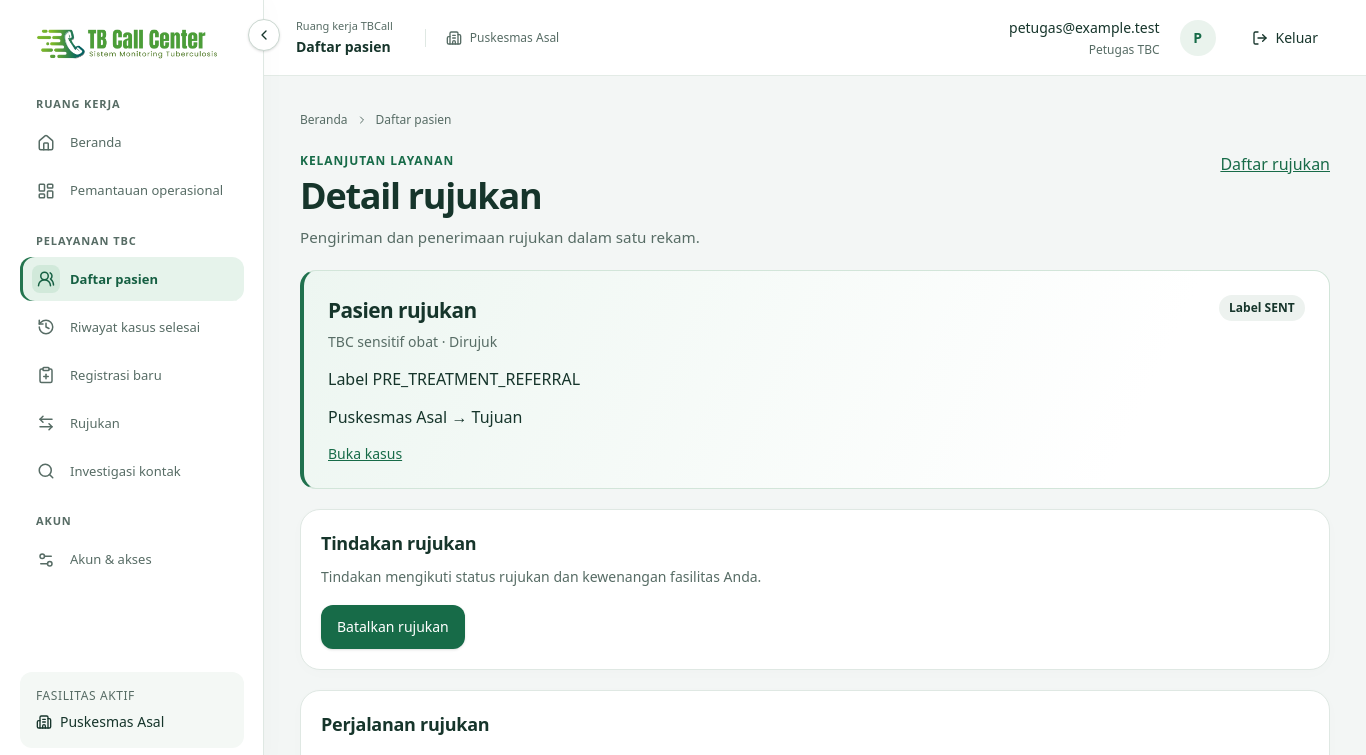
Test: referral cancel submits actual GET ETag and only transition fields
Click the button "Batalkan rujukan": (393, 628) [321, 606, 465, 650]
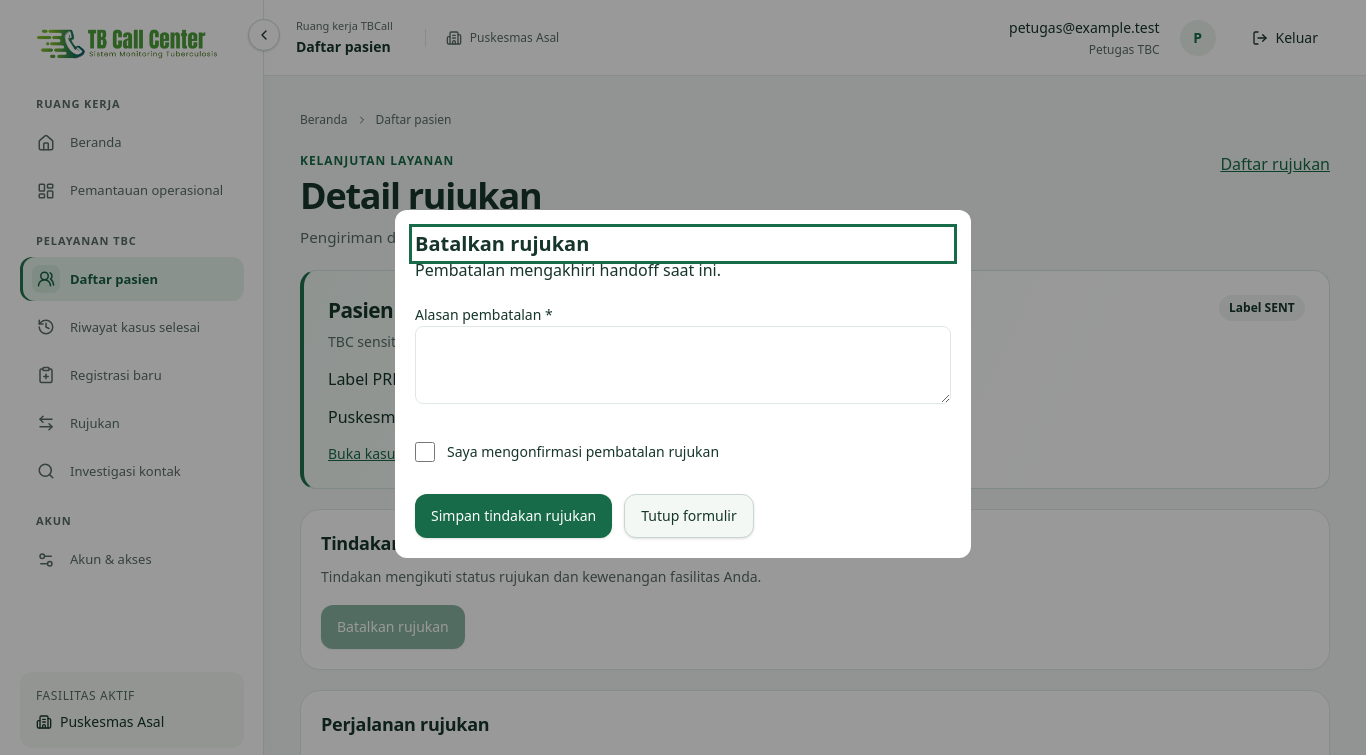
In the text box labelled "Alasan pembatalan *": (683, 365) [415, 326, 951, 404], type "Reason"
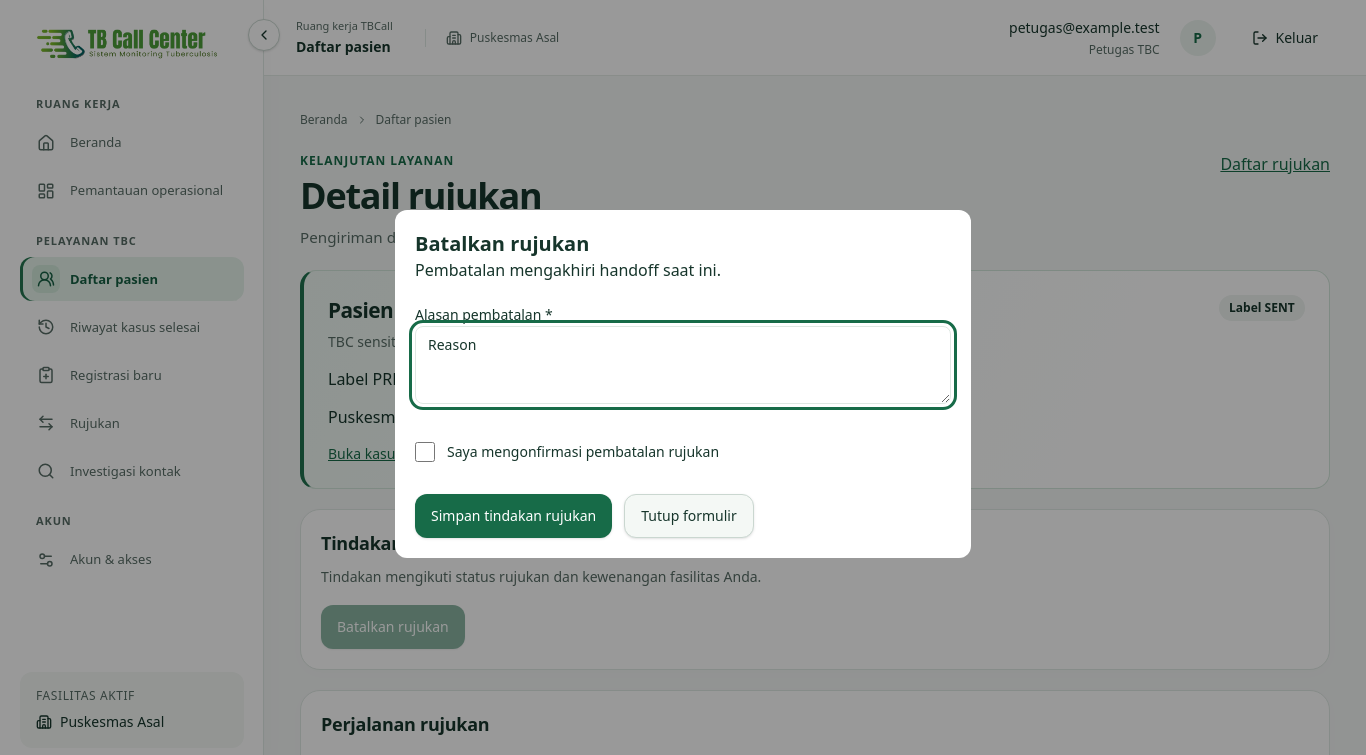
Click the button "Simpan tindakan rujukan": (514, 516) [415, 494, 612, 538]
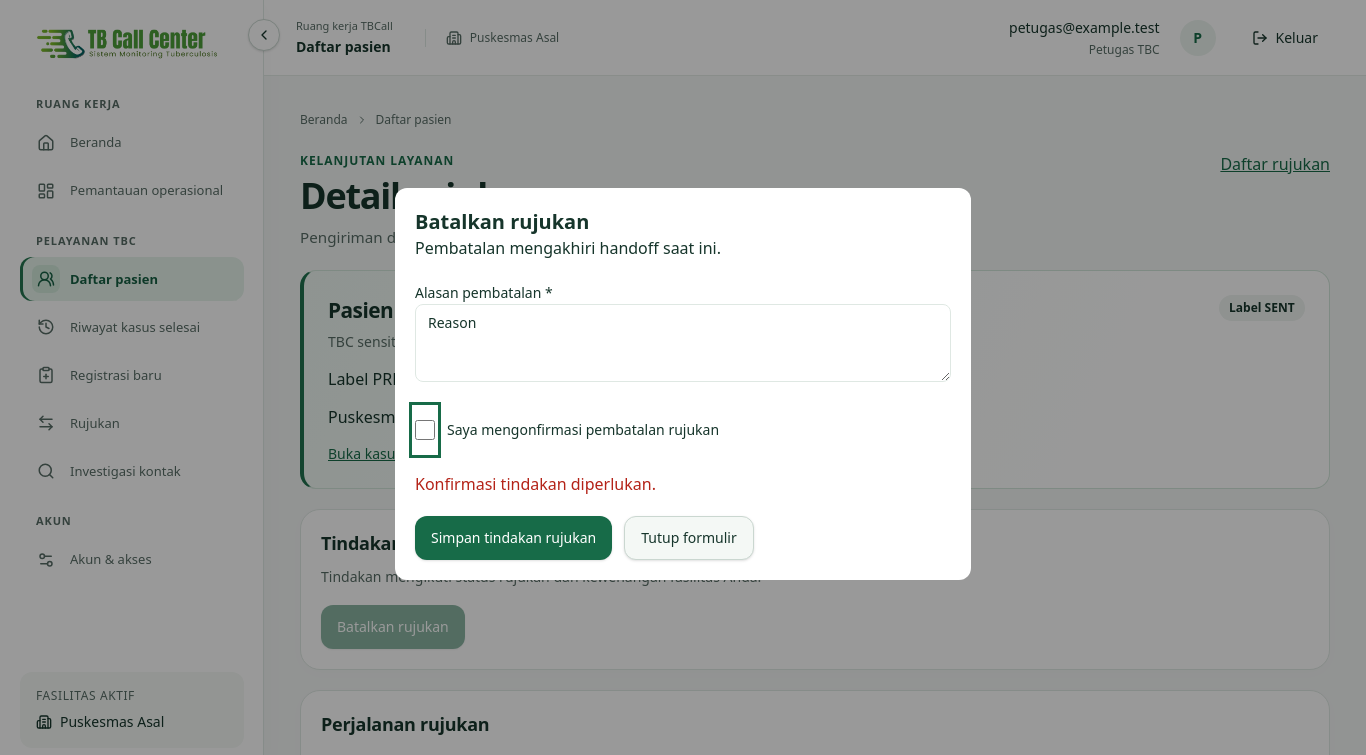
Click the checkbox labelled "Saya mengonfirmasi pembatalan rujukan": (425, 430) [415, 408, 435, 452]
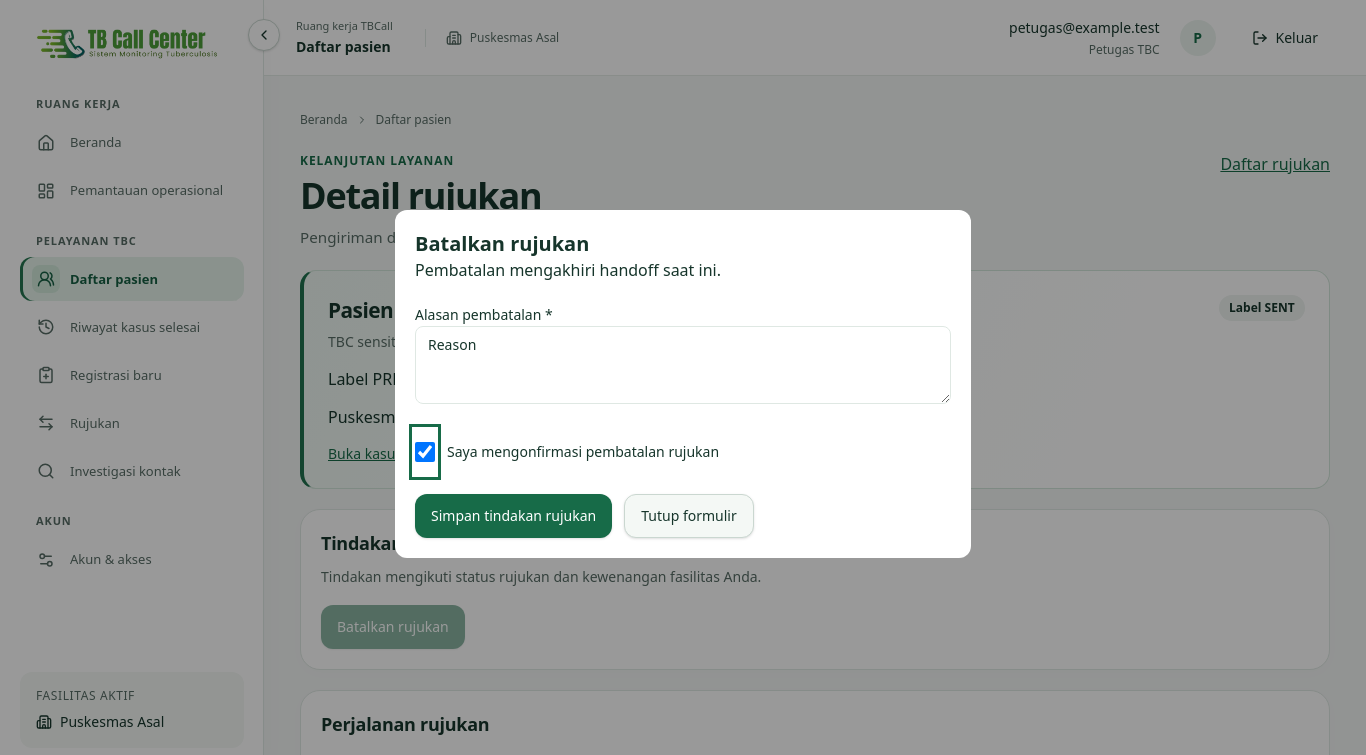
Click the button "Simpan tindakan rujukan": (514, 516) [415, 494, 612, 538]
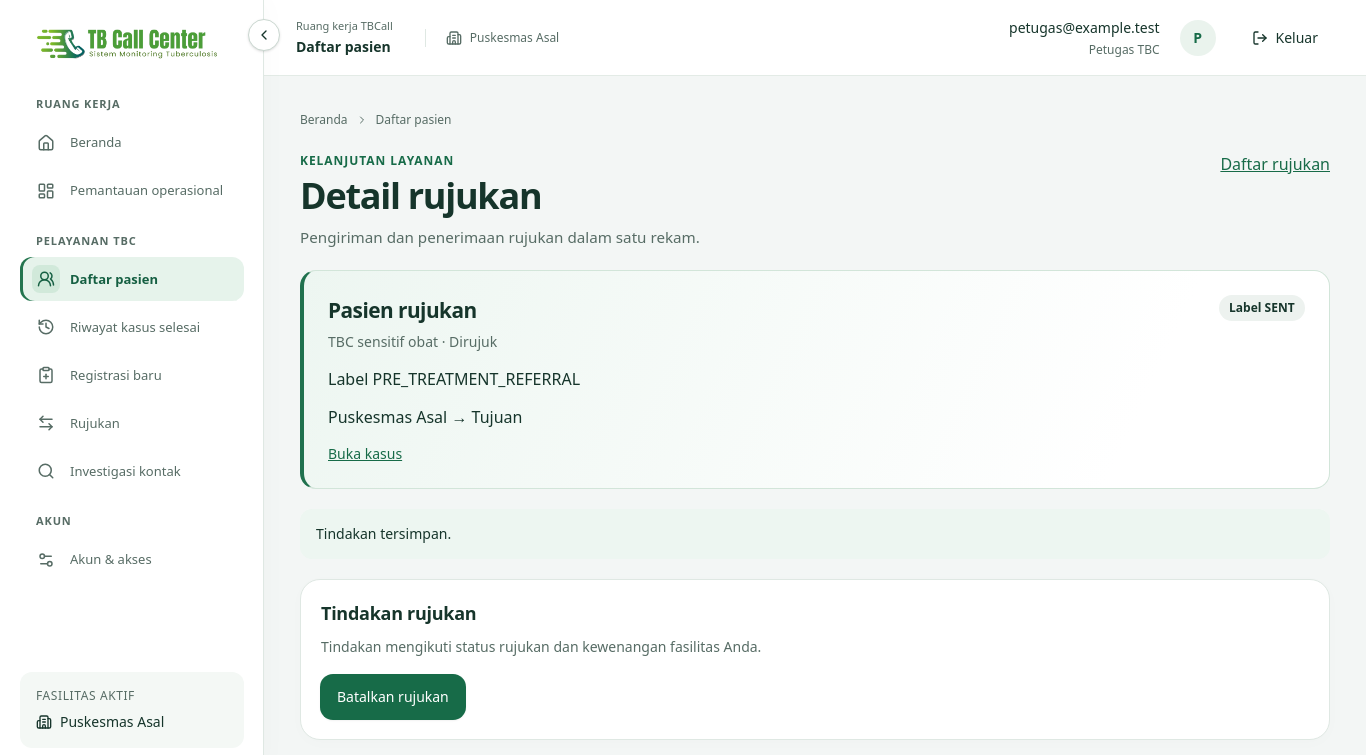
Now the text "Tindakan tersimpan." is shown, box [300, 510, 1330, 559]
